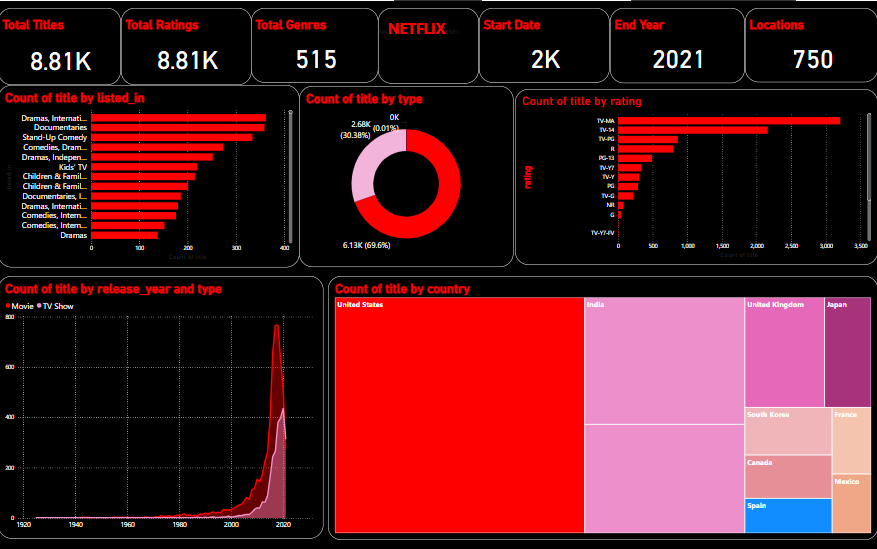

The page's visual inventory and layout, read from the dashboard file:
{"tool":"powerbi","page":{"name":"Page 1","canvas":[1920,1200],"ordinal":0},"visuals":[{"type":"card","title":"Total Titles","fields":{"Values":["CountNonNull(netflix_titles.title)"]},"box":[0,15,267.5,167.5],"z":0},{"type":"card","title":"Locations","fields":{"Values":["Count(netflix_titles.country)"]},"box":[1630,16,290,162],"z":1000},{"type":"card","title":"Total Ratings ","fields":{"Values":["CountNonNull(netflix_titles.rating)"]},"box":[267.5,15,285,167.5],"z":2000},{"type":"card","title":"End Year","fields":{"Values":["Max(netflix_titles.release_year)"]},"box":[1336,16,294,164],"z":3000},{"type":"card","title":"Start Date","fields":{"Values":["Min(netflix_titles.release_year)"]},"box":[1050,15,285,162.5],"z":4000},{"type":"card","title":"Total Genres","fields":{"Values":["Count(netflix_titles.listed_in)"]},"box":[552.5,15,277.5,162.5],"z":5000},{"type":"textbox","box":[830,15,220,165],"z":6000},{"type":"barChart","fields":{"Category":["netflix_titles.listed_in"],"Y":["CountNonNull(netflix_titles.title)"]},"box":[0,182.5,657.5,397.5],"z":7000},{"type":"donutChart","fields":{"Category":["netflix_titles.type"],"Y":["CountNonNull(netflix_titles.title)"]},"box":[657.5,185,467.5,395],"z":8000},{"type":"clusteredBarChart","fields":{"Category":["netflix_titles.rating"],"Y":["CountNonNull(netflix_titles.title)"]},"box":[1128,192,792,384],"z":9000},{"type":"lineChart","fields":{"Category":["netflix_titles.release_year"],"Series":["netflix_titles.type"],"Y":["CountNonNull(netflix_titles.title)"]},"box":[0,600,710,572.5],"z":10000},{"type":"treemap","fields":{"Group":["netflix_titles.country"],"Values":["CountNonNull(netflix_titles.title)"]},"box":[720,600,1200,576],"z":11000}]}

Visuals, with their boxes in screenshot pixels (x1, y1, x2, y2), scaled from the page's 1920x1200 canvas onto the 877x549 screenshot:
"Total Titles" card: <box>0,7,122,83</box>
"Locations" card: <box>745,7,876,81</box>
"Total Ratings " card: <box>122,7,252,83</box>
"End Year" card: <box>610,7,745,82</box>
"Start Date" card: <box>480,7,610,81</box>
"Total Genres" card: <box>252,7,379,81</box>
textbox: <box>379,7,480,82</box>
barChart - netflix_titles.listed_in x CountNonNull(netflix_titles.title): <box>0,83,300,265</box>
donutChart - netflix_titles.type x CountNonNull(netflix_titles.title): <box>300,85,514,265</box>
clusteredBarChart - netflix_titles.rating x CountNonNull(netflix_titles.title): <box>515,88,876,264</box>
lineChart - netflix_titles.release_year x netflix_titles.type: <box>0,274,324,536</box>
treemap - netflix_titles.country x CountNonNull(netflix_titles.title): <box>329,274,876,538</box>
